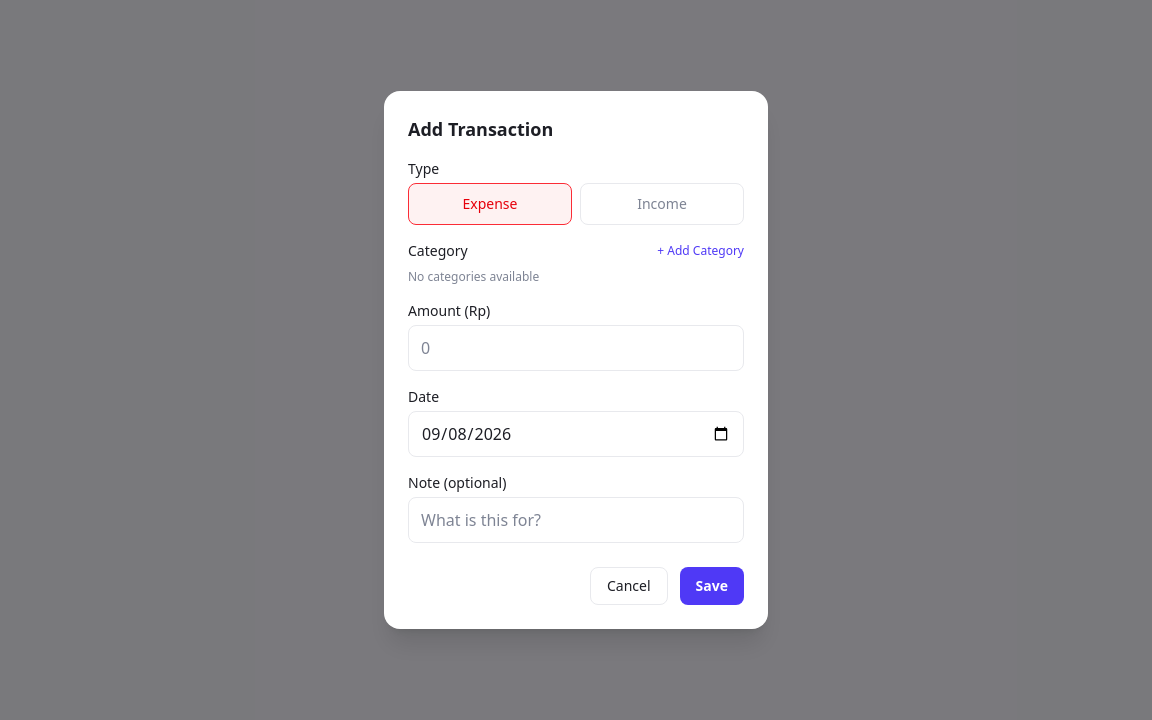
Scenario: AddTransactionModal - Type switching › switches to income shows fix income checkbox
The image size is (1152, 720).
Click the button "Income".
click(662, 204)  # box [580,183,744,225]
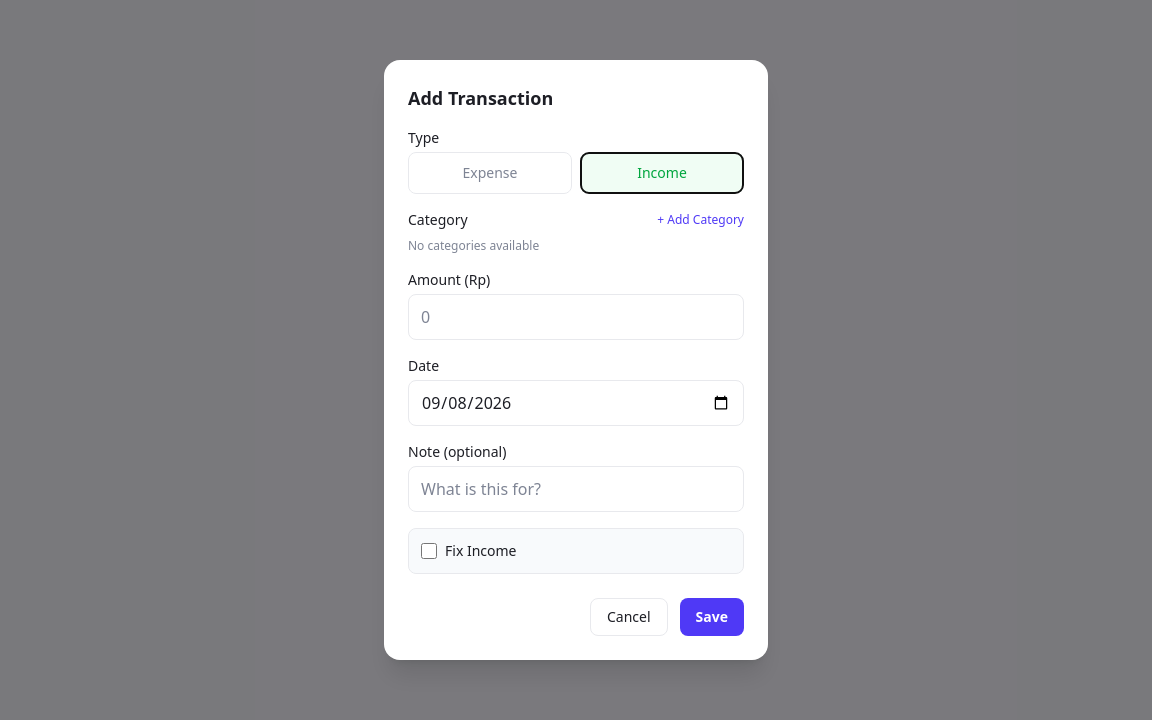
Result: the text "Fix Income" is shown at [445,541,516,561]
